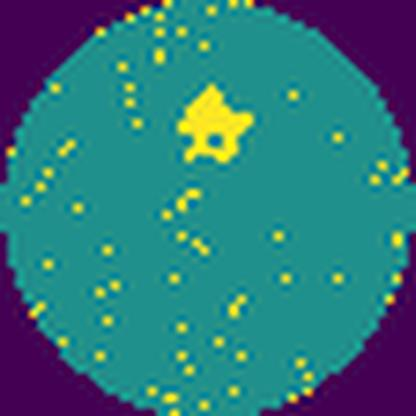Edge-Loc: (169, 80, 254, 164)
